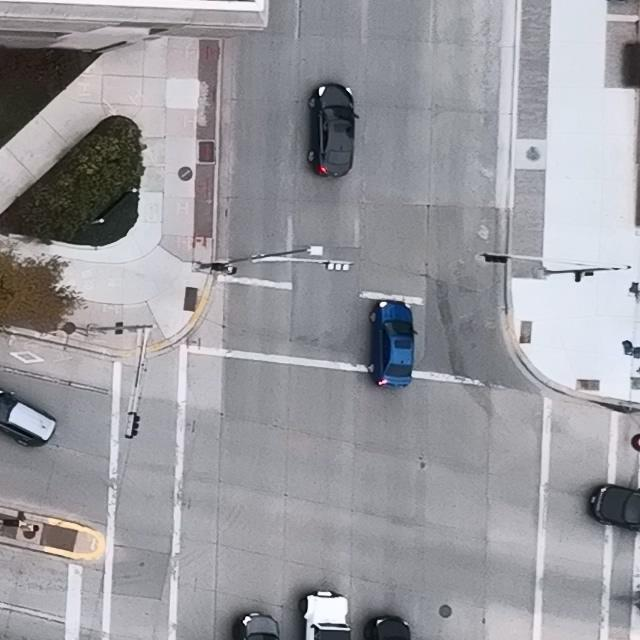car: (306, 84, 359, 178), (367, 301, 419, 389), (0, 385, 57, 448), (587, 483, 640, 532), (300, 590, 351, 640), (362, 615, 412, 640), (237, 613, 279, 640)
